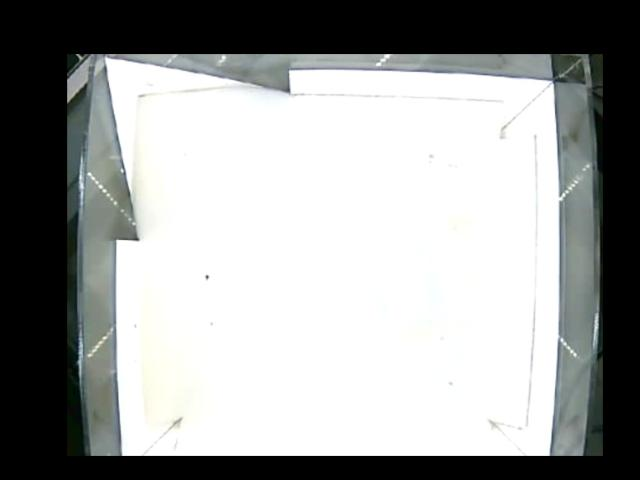Bottle: (357, 183, 435, 321)
